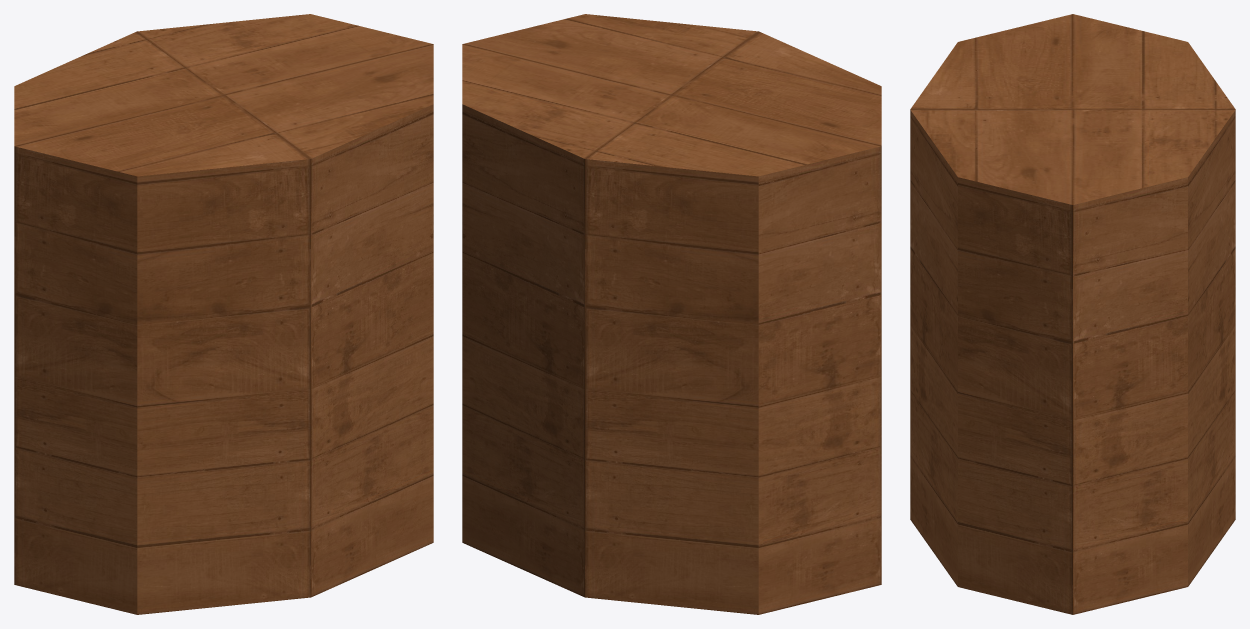
File: fulcrum.glb
3 renders of one model, left to right at view 1: azimuth 30°, elevation 25°; view 2: azimuth 150°, elevation 25°; view 3: azimuth 270°, elevation 25°, orthographic. The views are drawn at different scales.
Parts seen in each view (by area): view 1: Fulcrum; view 2: Fulcrum; view 3: Fulcrum.
Part boxes in pixels (x1,y1,x2,y2): Fulcrum: (14, 14, 433, 614); Fulcrum: (462, 14, 881, 614); Fulcrum: (910, 14, 1235, 614).
Bounding box in the file's own units: 0.32 × 0.32 × 0.2304.
1 material, 1 textured.
